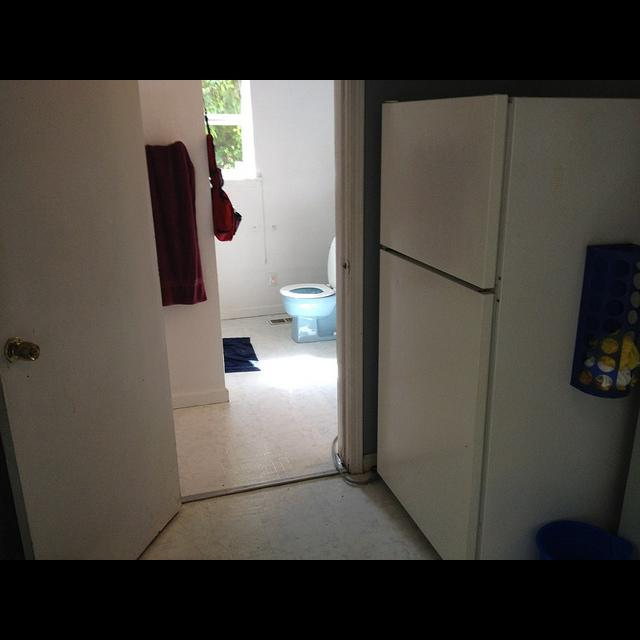Refrigerator: (378, 95, 637, 560)
